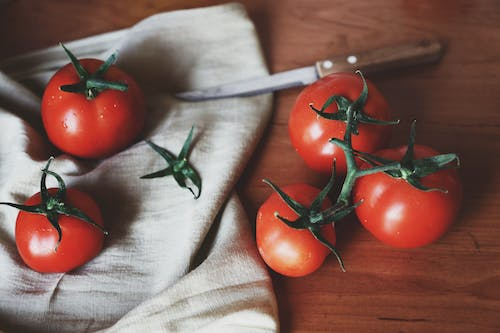knife: (169, 36, 446, 103)
